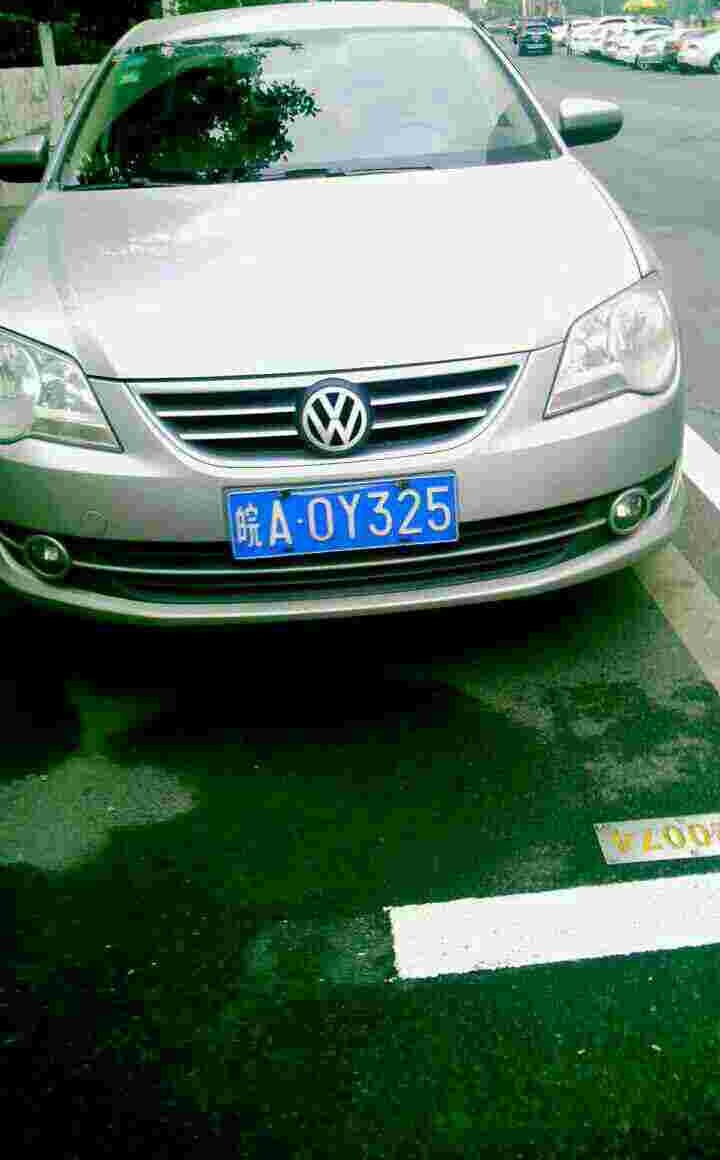plate: (230, 470, 465, 564)
